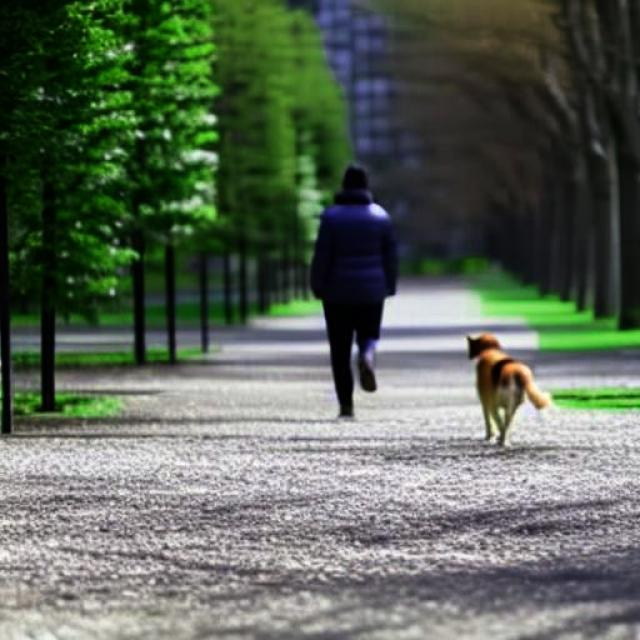Unleashed_Dog: (325, 281, 552, 445)
